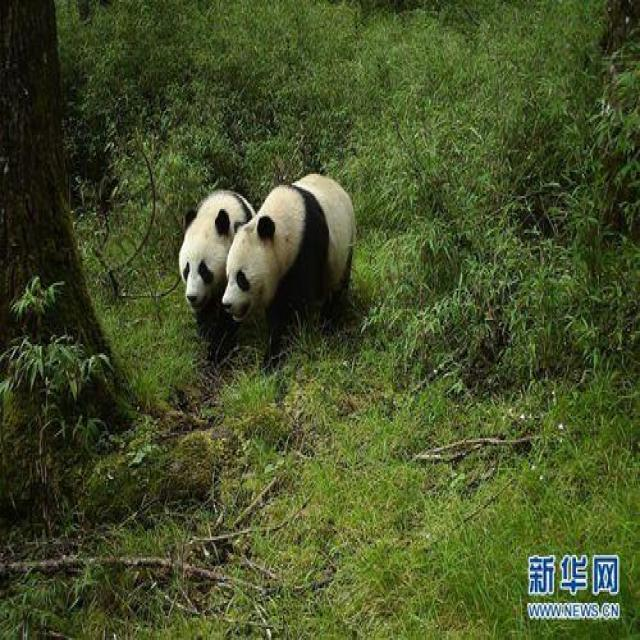panda: (164, 168, 361, 352)
